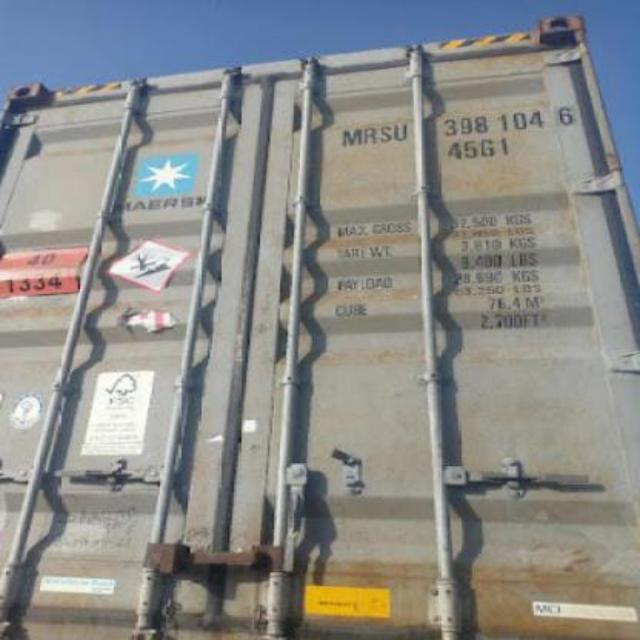0: (508, 102, 526, 134)
1: (494, 106, 510, 132)
3: (440, 114, 458, 136)
4: (526, 105, 546, 132)
6: (552, 100, 578, 130)
8: (471, 108, 492, 136)
9: (458, 112, 472, 136)
M: (338, 122, 359, 148)
R: (358, 122, 378, 148)
S: (376, 122, 394, 148)
U: (392, 119, 410, 145)
